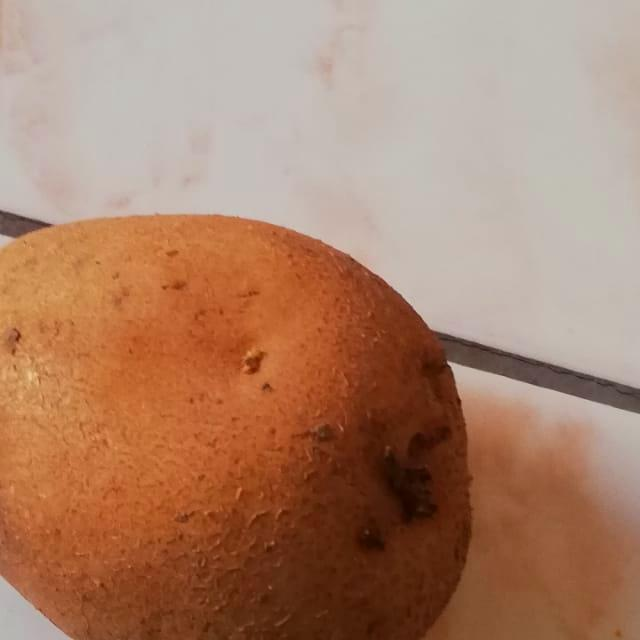potato: (0, 159, 492, 640)
